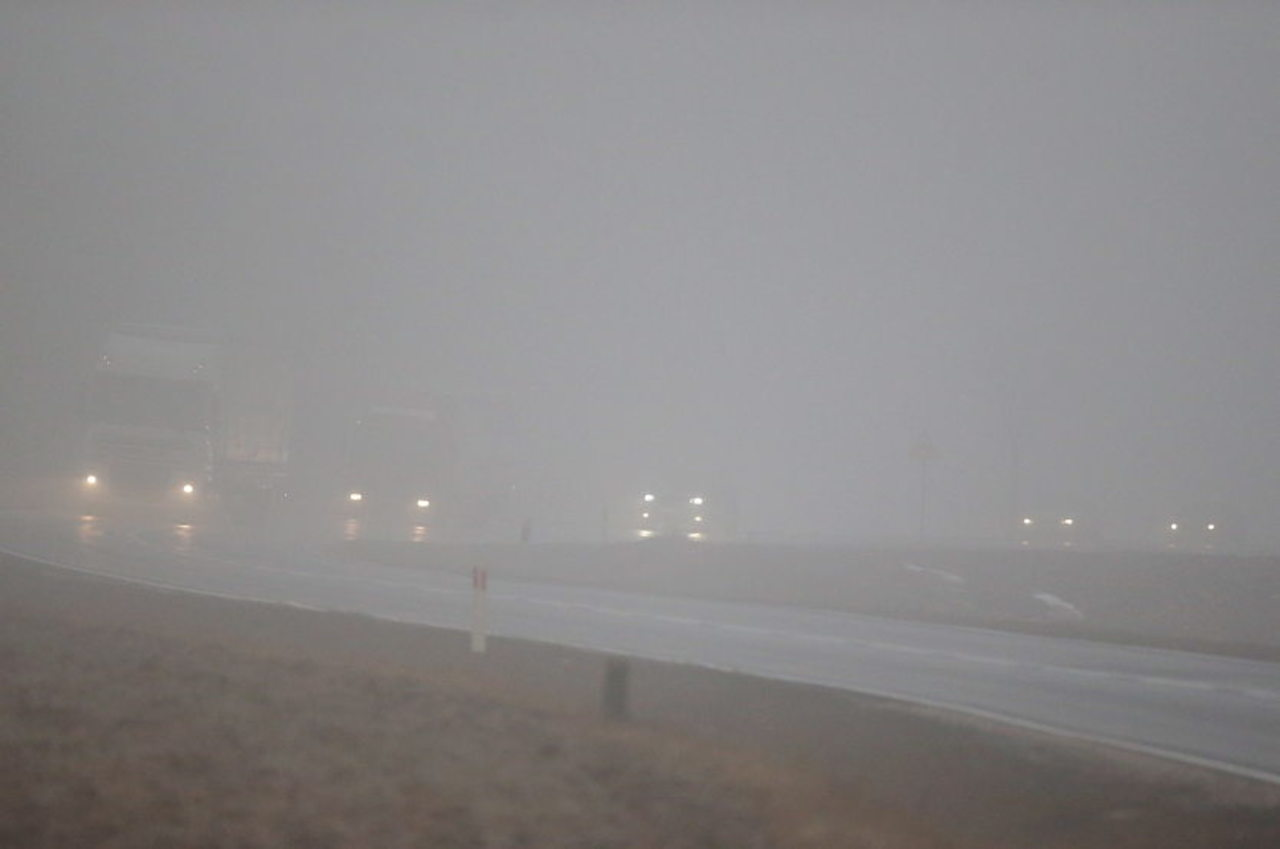car: (639, 461, 738, 530), (1018, 492, 1102, 537), (1168, 503, 1239, 545)
truck: (76, 330, 288, 522), (343, 378, 525, 520)
